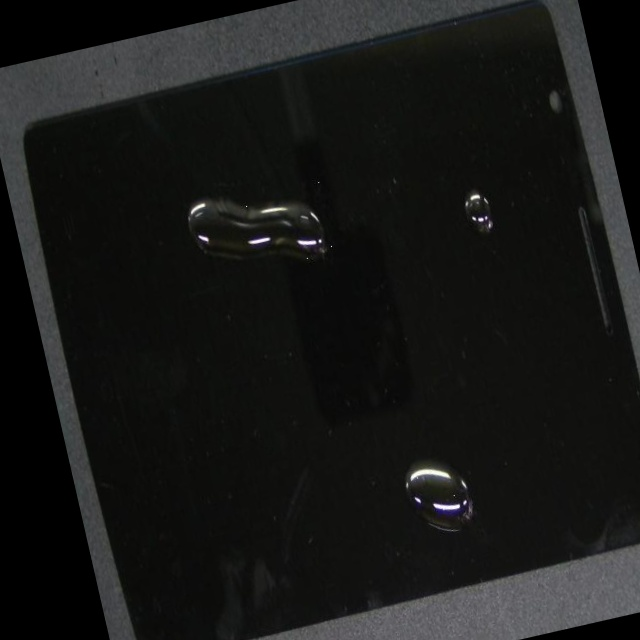oil: (200, 190, 610, 640), (209, 31, 640, 367), (146, 90, 395, 315)
